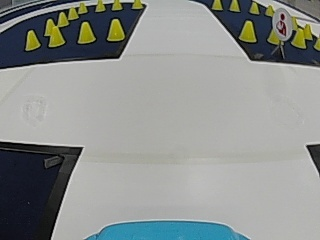cone: (77, 21, 96, 44), (107, 19, 125, 41), (239, 21, 257, 42), (48, 25, 65, 46), (25, 30, 41, 50), (292, 28, 305, 48), (57, 12, 69, 26), (211, 0, 222, 11), (131, 0, 143, 10), (95, 0, 105, 12), (68, 7, 78, 19), (264, 4, 274, 16), (249, 2, 259, 14), (111, 0, 122, 10), (229, 1, 240, 11), (78, 2, 87, 13)
patient: (273, 9, 293, 37)
